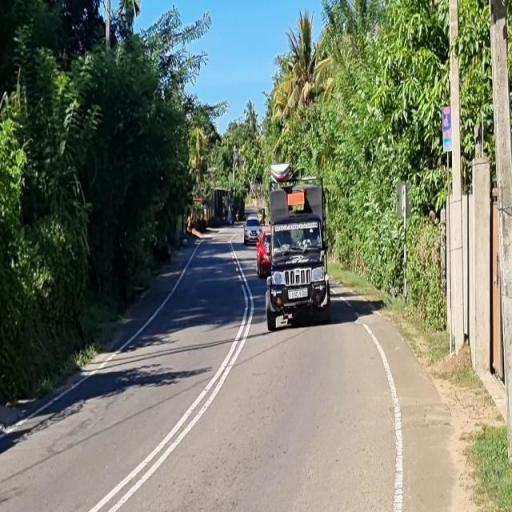double_white_line: (85, 233, 261, 512)
